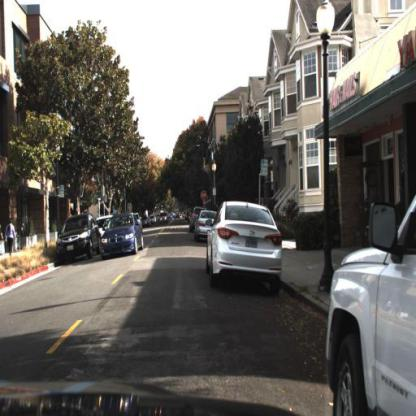car: (326, 193, 416, 416), (206, 199, 288, 300), (56, 214, 103, 266), (102, 212, 146, 261), (195, 209, 218, 244), (160, 213, 171, 227)
pedestrian: (5, 218, 17, 254)
